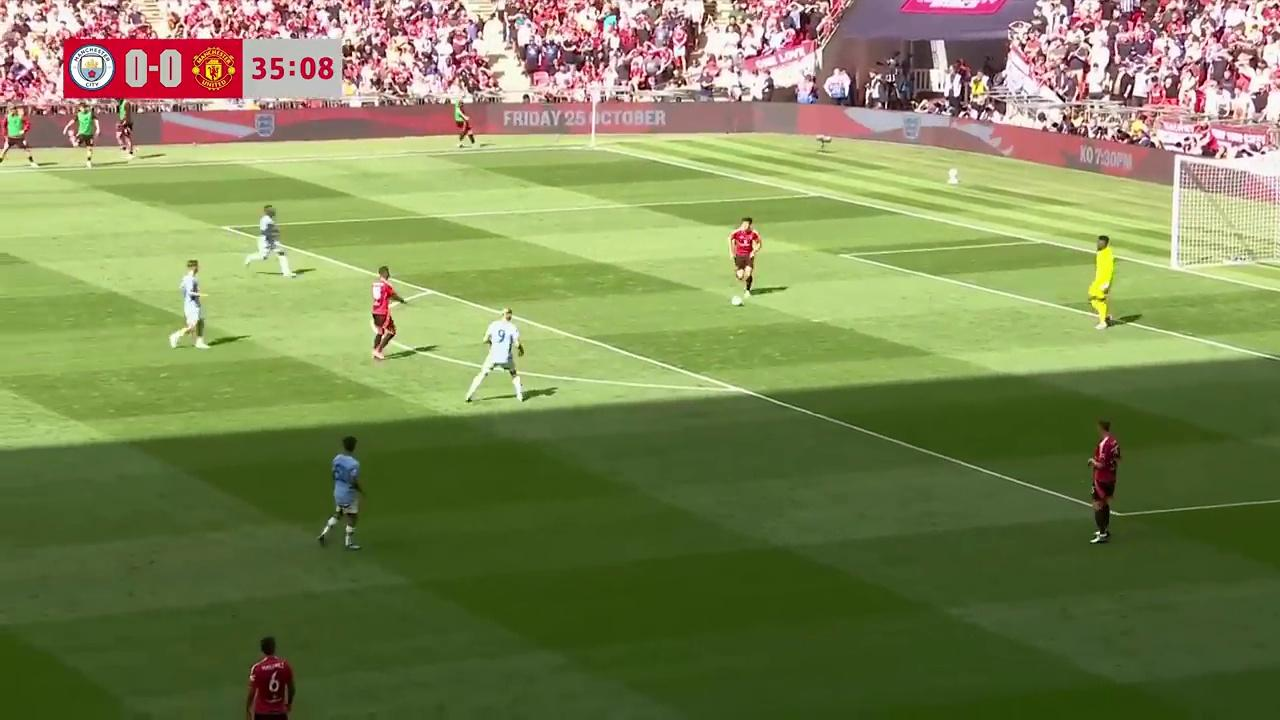ball: (730, 292, 742, 308)
player: (465, 310, 524, 403), (316, 436, 364, 550), (244, 637, 294, 719), (1087, 418, 1120, 542), (371, 266, 407, 362), (170, 261, 208, 349), (482, 308, 525, 378), (253, 205, 291, 276), (729, 216, 761, 297), (1089, 234, 1116, 330)
